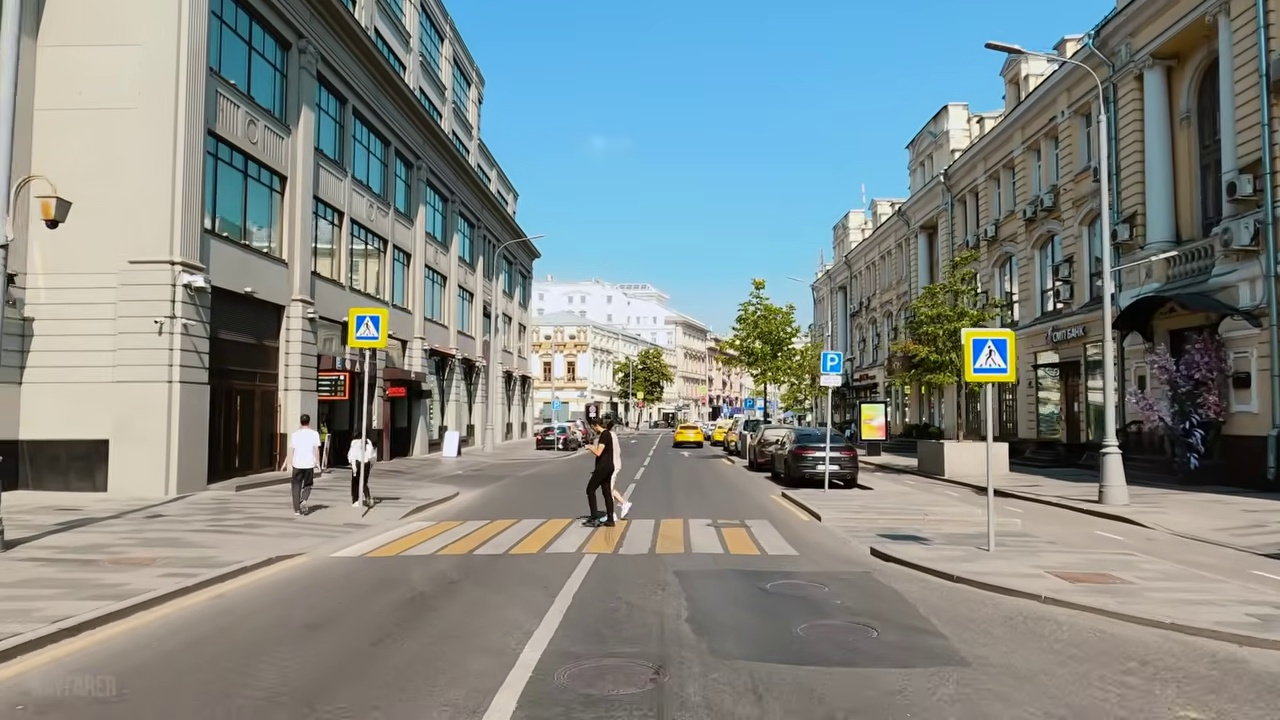apagada: (972, 26, 1027, 60)
